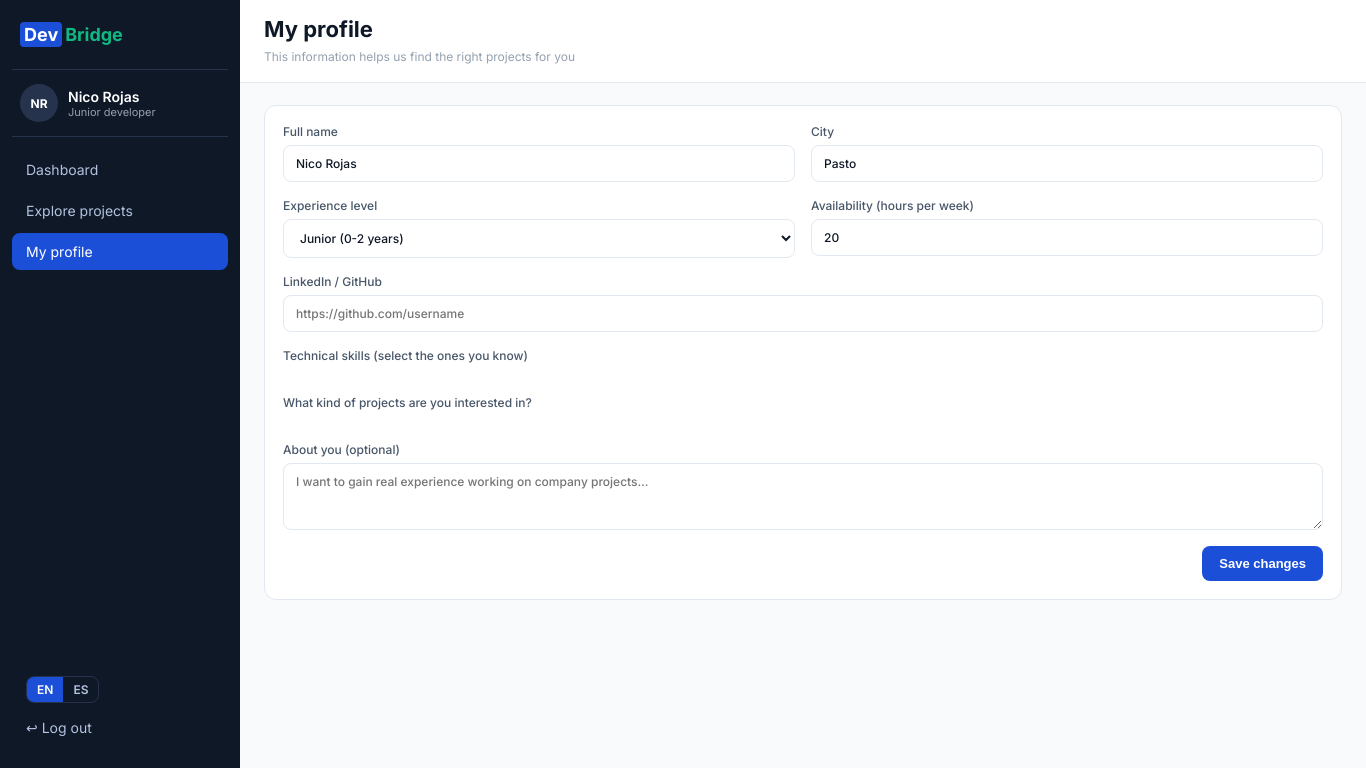
Test case: Profile › shows the error when the profile cannot be saved
The width and height of the screenshot is (1366, 768).
Click the button "Save changes": (1263, 564) [1202,546,1323,581]
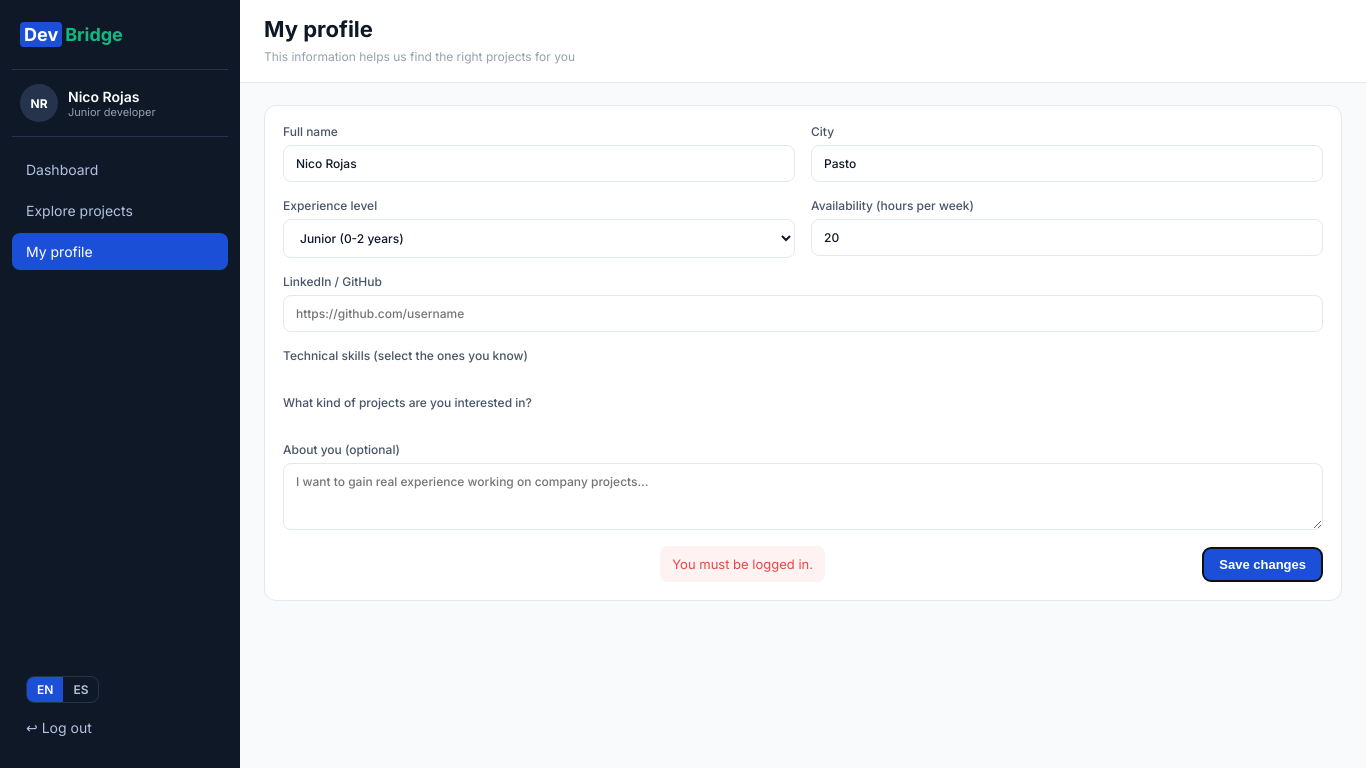
expect the text "You must be logged in." is shown: met, box [660,546,825,582]
